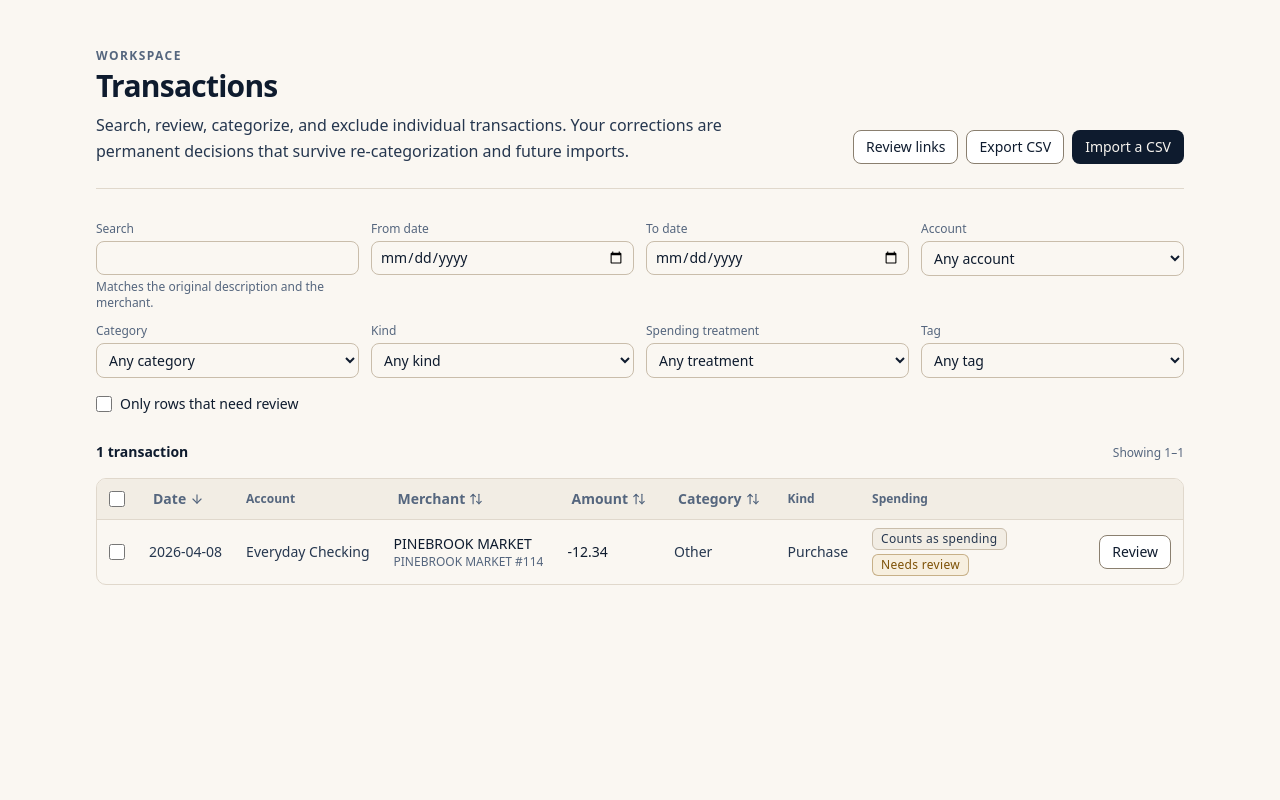
Test: a rejected individual save › leaves the row exactly as it was and keeps the dialog open
This screenshot has width=1280, height=800.
Expected: the heading "1 transaction" is shown, [96,442,188,462]
Click the button "Review" at (1135, 552), box [1099,535,1171,569]
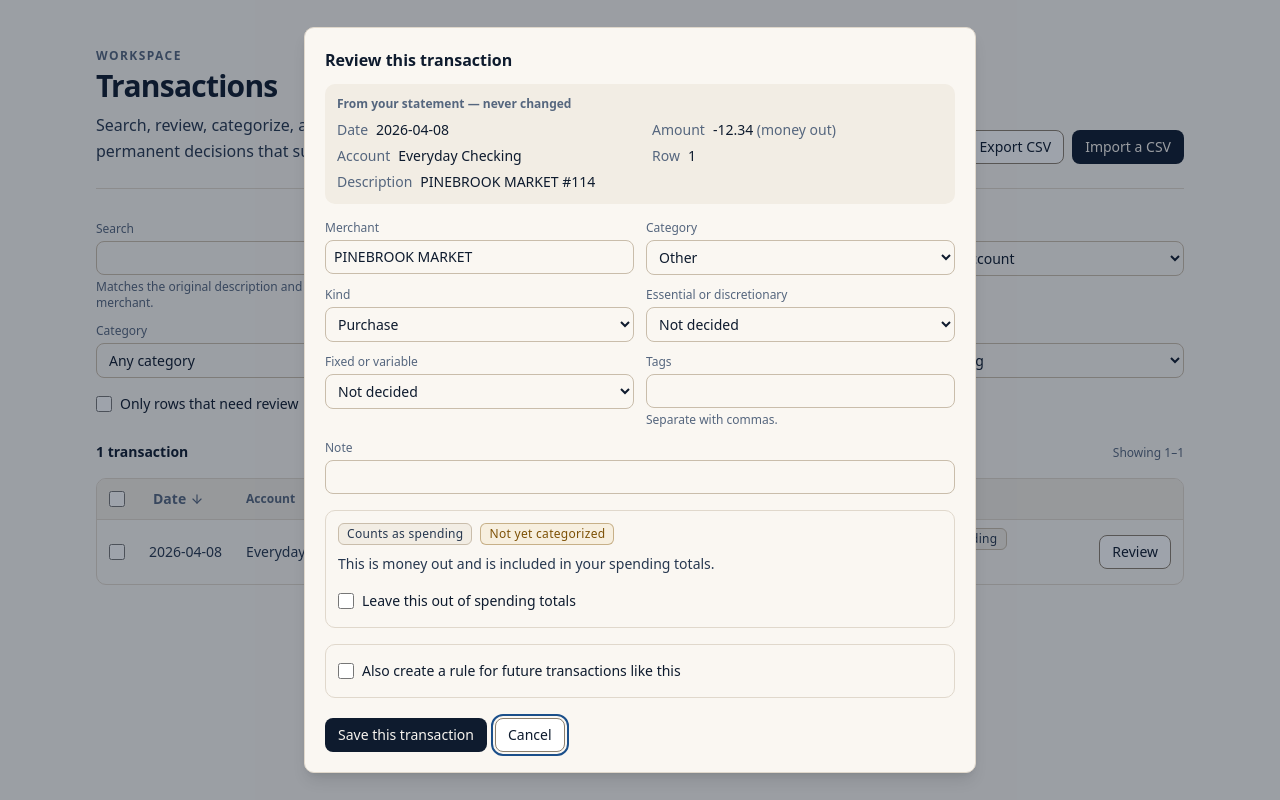
Select "Groceries" in the dropdown labelled "Category" at (800, 257), box [646,240,955,275]
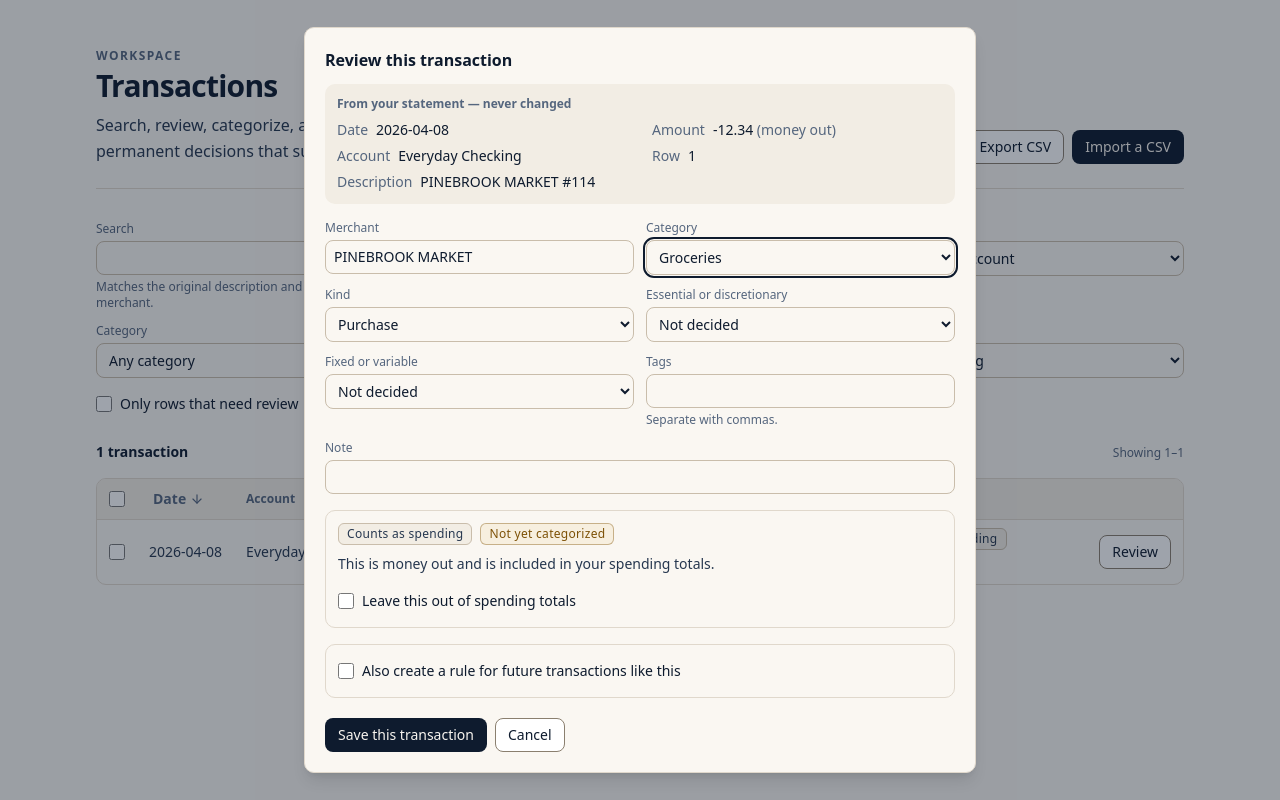
Click the button "Save this transaction" at (406, 735), box [325,718,487,752]
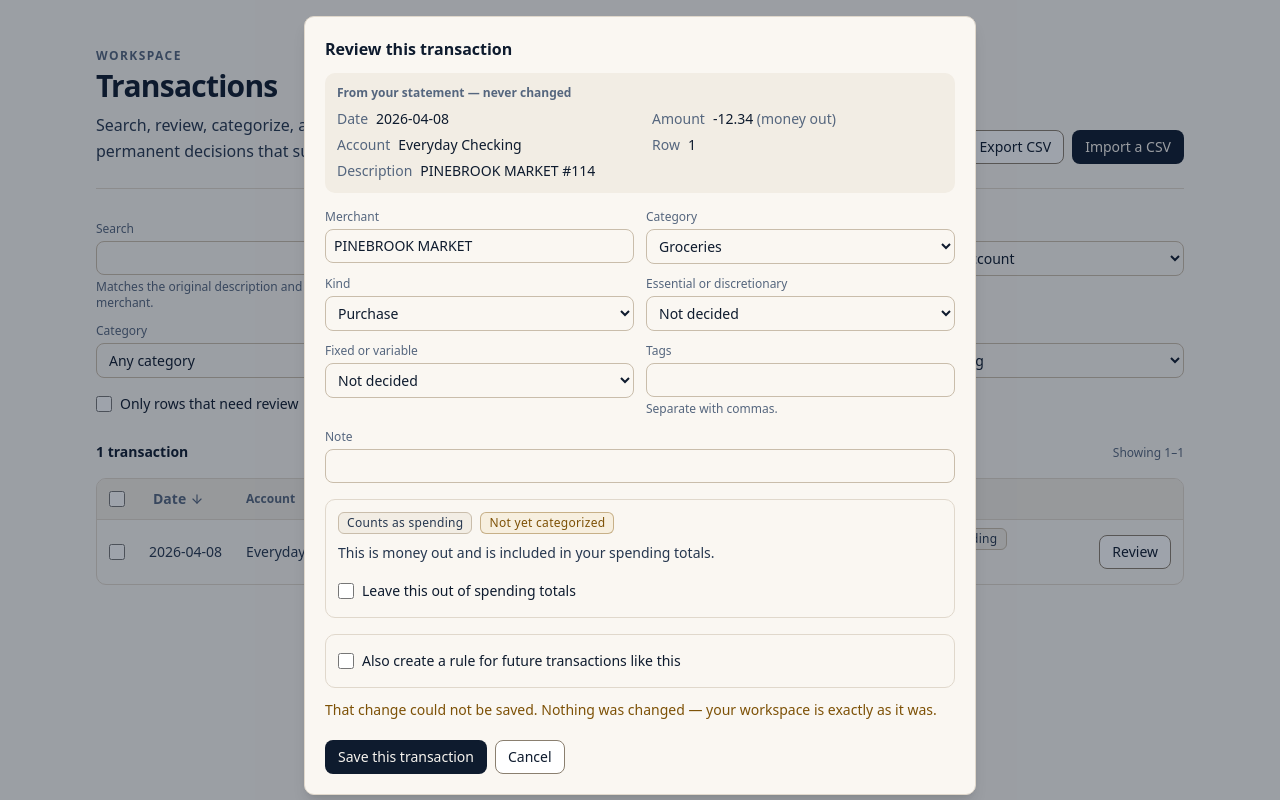
Now the dialog is shown, box [304,16,976,795]
Now the message shows "Nothing was changed", box [325,700,937,719]
